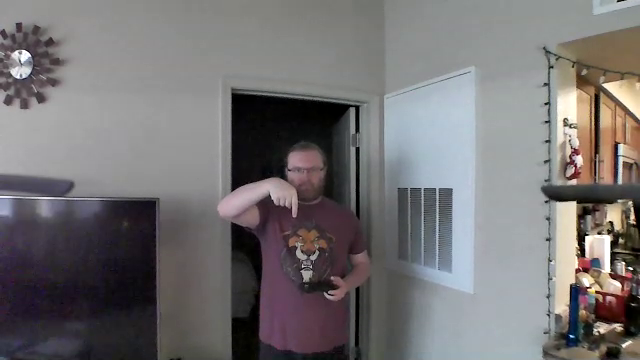down: (266, 175, 300, 225)
